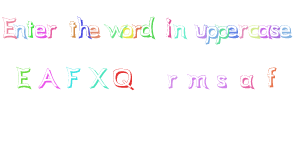A: (34, 64, 64, 94)
E: (10, 64, 35, 93), (1, 12, 19, 44)
F: (63, 65, 85, 93)
Q: (109, 64, 140, 95)
X: (86, 64, 111, 94)
a: (234, 68, 260, 93), (256, 21, 273, 42)
c: (248, 20, 262, 42)
d: (139, 12, 158, 42)
e: (278, 20, 295, 43), (87, 19, 103, 43), (226, 20, 239, 42), (33, 22, 46, 40)
f: (259, 63, 286, 89)
h: (77, 13, 92, 41)
i: (163, 15, 174, 41)
m: (183, 70, 212, 92)
n: (13, 21, 28, 42), (173, 22, 188, 41)
o: (119, 21, 136, 41)
p: (215, 19, 229, 50), (204, 21, 218, 51)
r: (163, 68, 181, 94), (45, 19, 62, 43), (234, 21, 248, 42), (130, 21, 144, 41)
s: (211, 69, 234, 94), (269, 20, 282, 44)
t: (64, 17, 79, 39), (24, 18, 37, 42)
u: (192, 20, 209, 39)
w: (102, 20, 125, 41)
